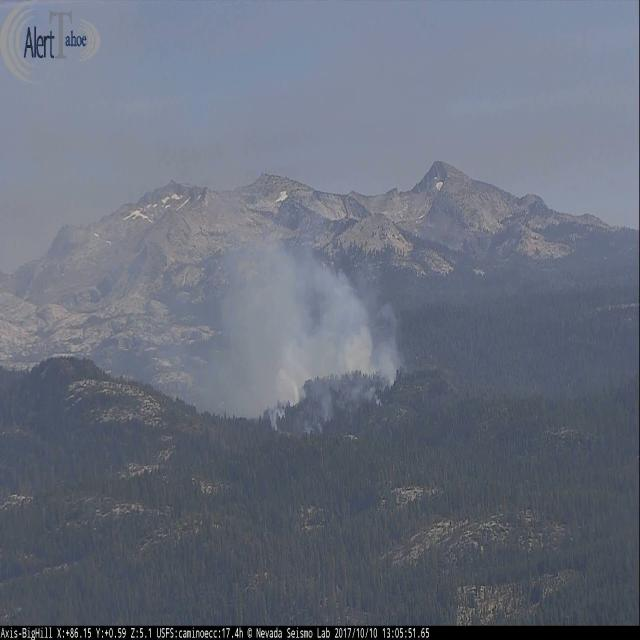smoke: (203, 233, 399, 435)
